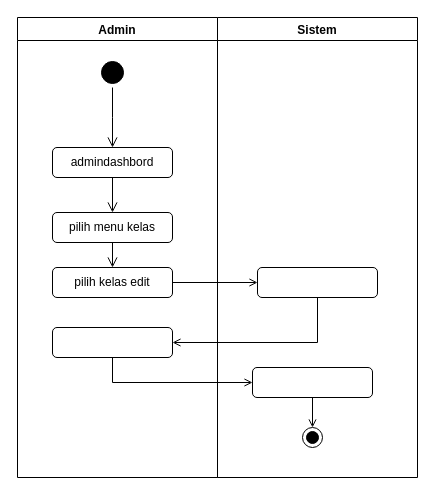
Image size: 435x495. Some labels were removed from this diagram. Here are the shapes that lost their labels. From the top down, the centre of each, then its label:
the point at 317,282: get id kelas
the point at 112,342: isi nama kelas baru
the point at 312,382: berhasil edit kelas
